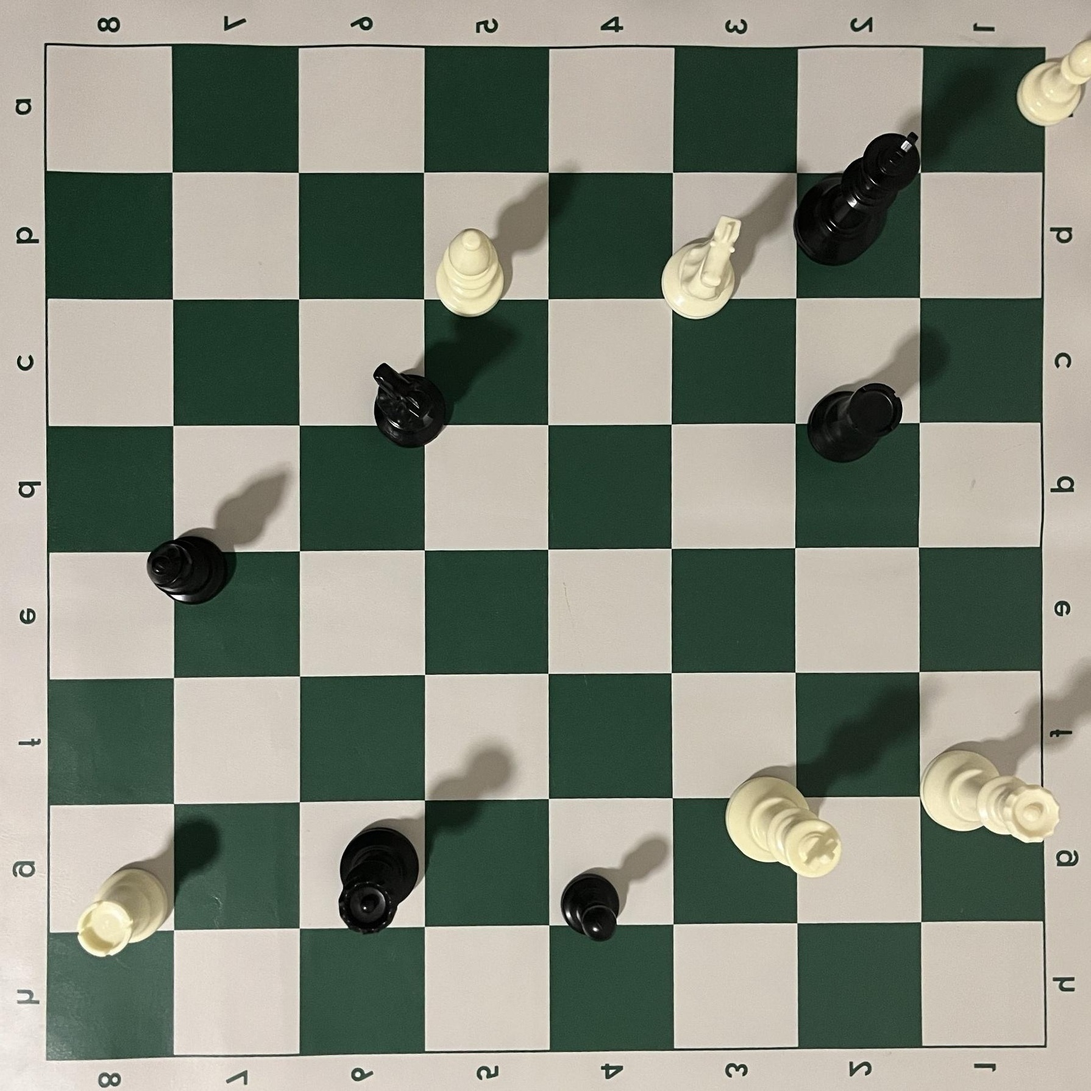black_bishop: (146, 535, 229, 605)
black_king: (793, 131, 921, 266)
black_knight: (373, 361, 448, 449)
black_pawn: (560, 872, 624, 943)
black_queen: (338, 827, 420, 936)
black_rook: (806, 383, 904, 463)
white_bishop: (435, 228, 505, 318)
white_king: (725, 776, 842, 881)
white_knight: (661, 215, 741, 320)
white_pawn: (1016, 35, 1091, 128)
white_queen: (920, 747, 1061, 845)
white_rook: (77, 867, 171, 958)
